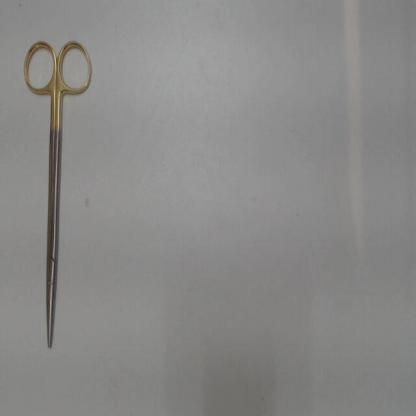7 Metzenbaum Scissors: (23, 37, 94, 348)
